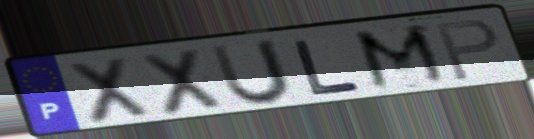L: (289, 38, 367, 99)
M: (349, 21, 456, 94)
P: (432, 16, 502, 84)
U: (206, 36, 297, 108)
X: (137, 46, 229, 119), (64, 54, 156, 127)
